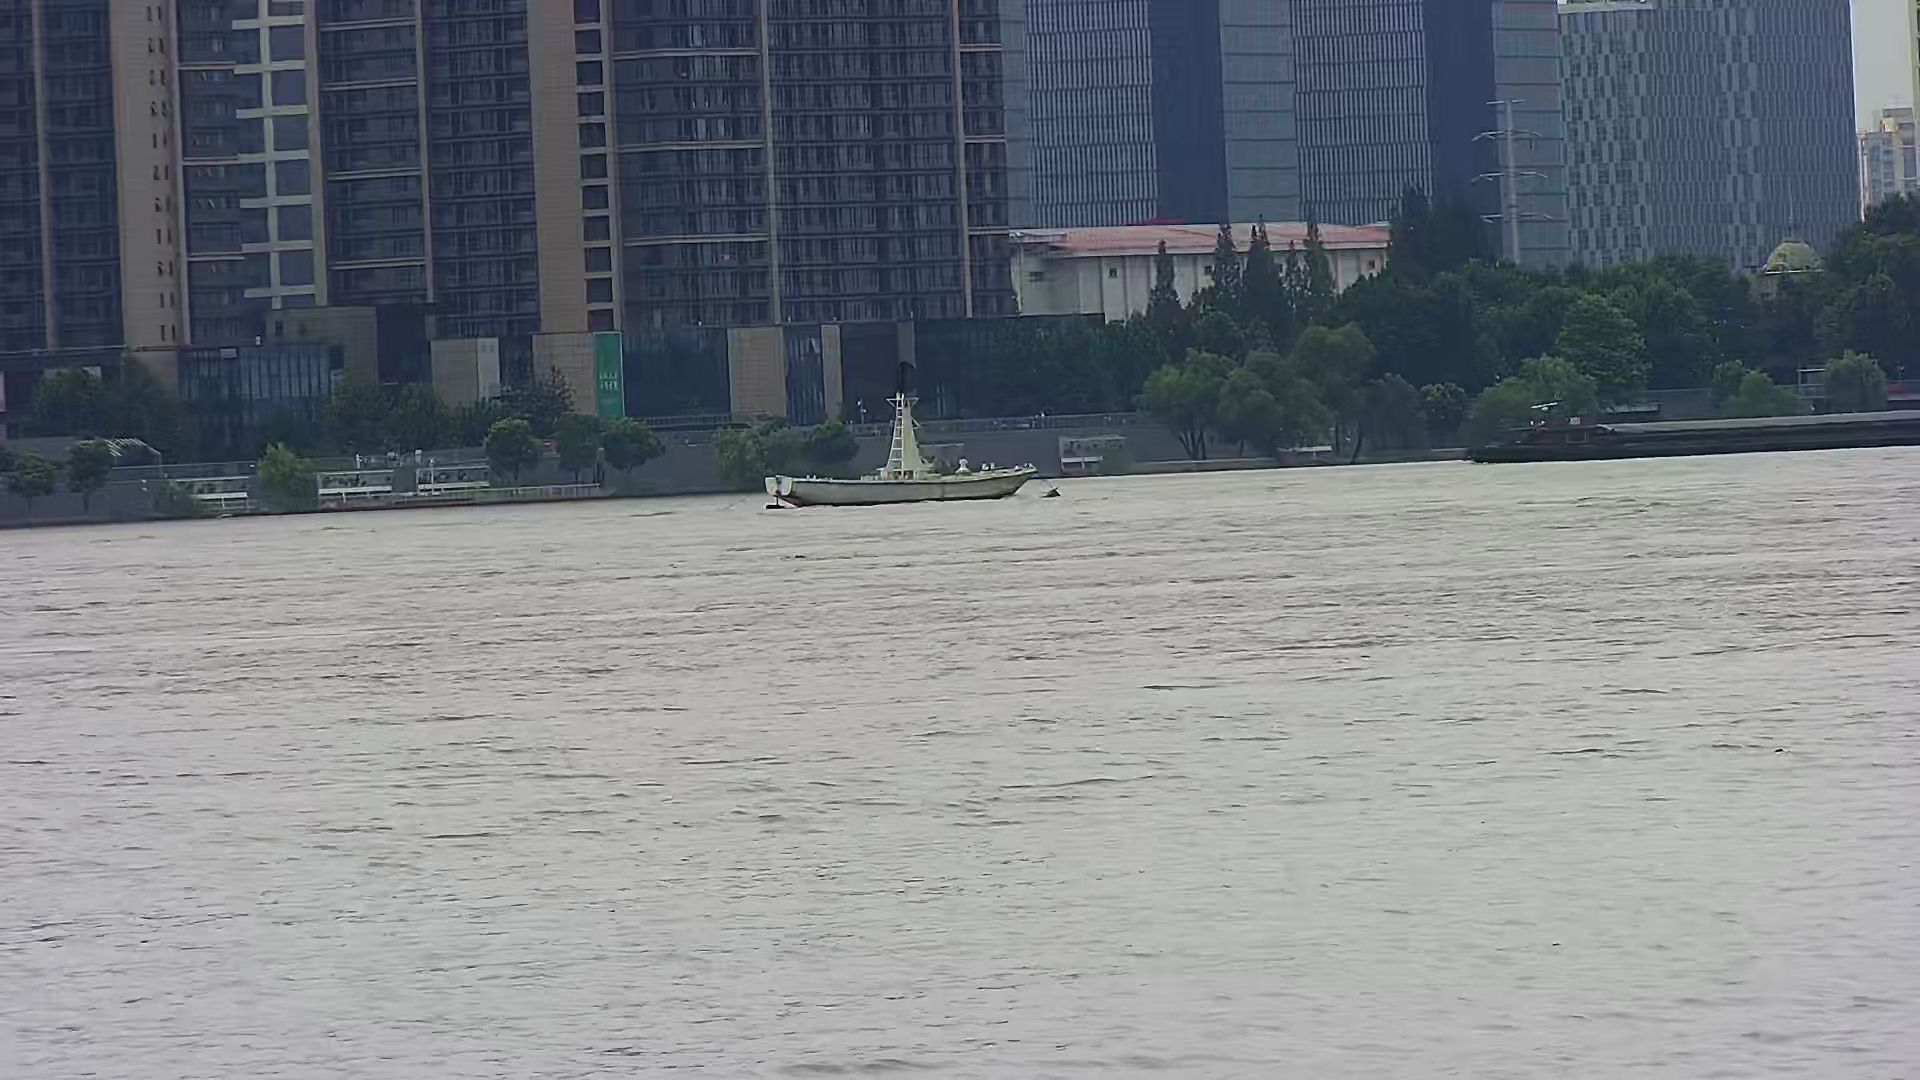boat: (761, 361, 1036, 510)
